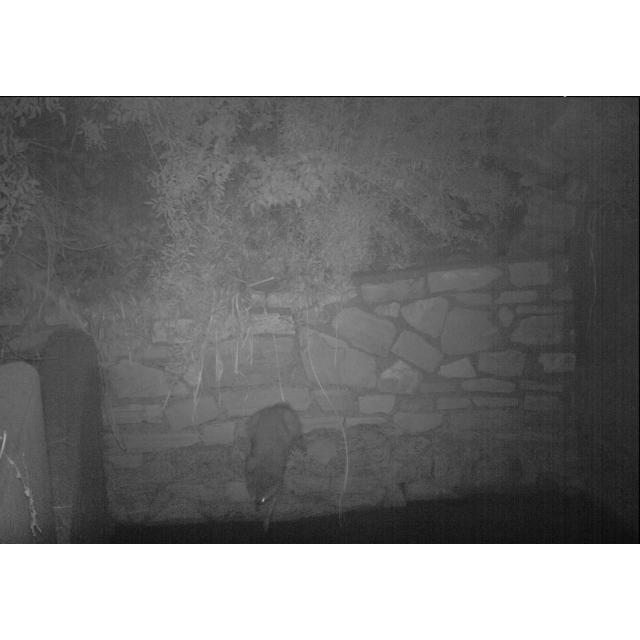animals: (241, 401, 309, 532)
